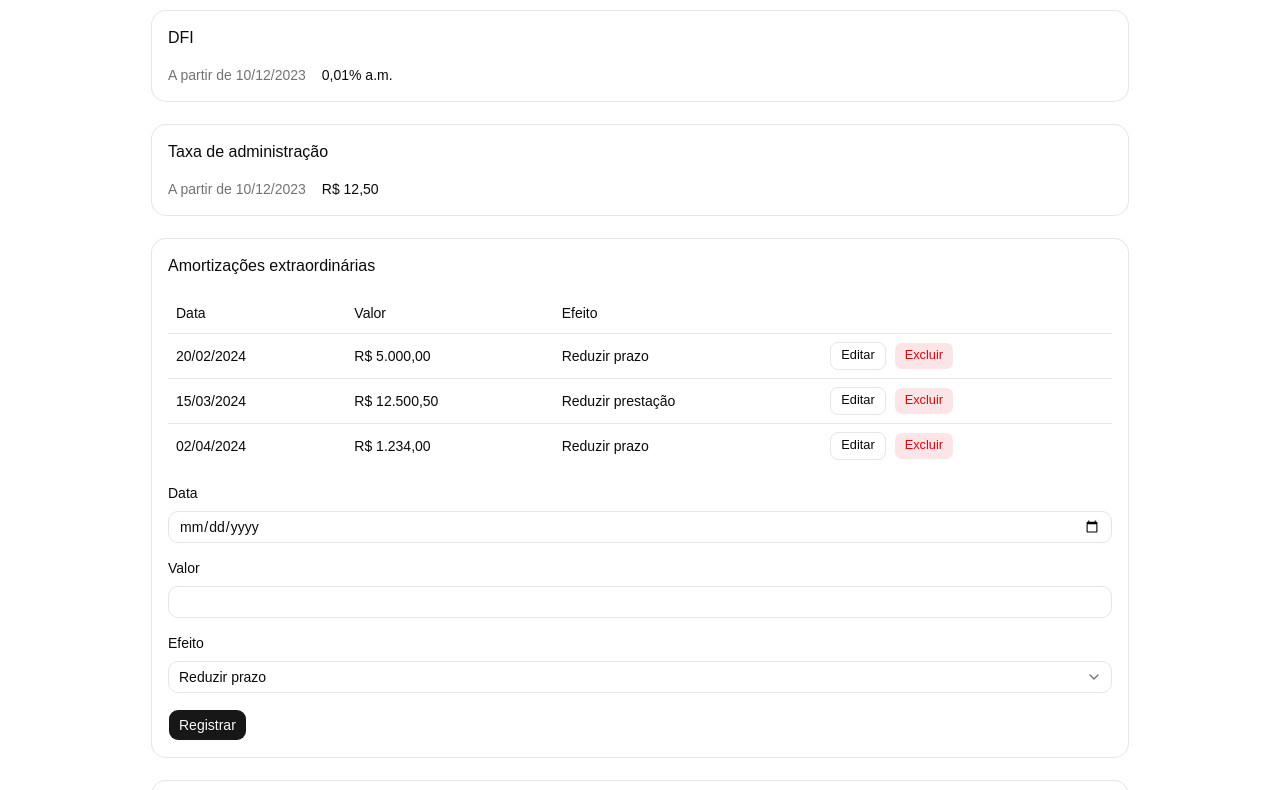
Test case: editing a prepayment › keeps the prepayment when the owner cancels
The image size is (1280, 790).
(page scrolled)
Step 1. Click the button with aria-label "Editar amortização de 15/03/2024" → (858, 400), box [830, 386, 886, 414]
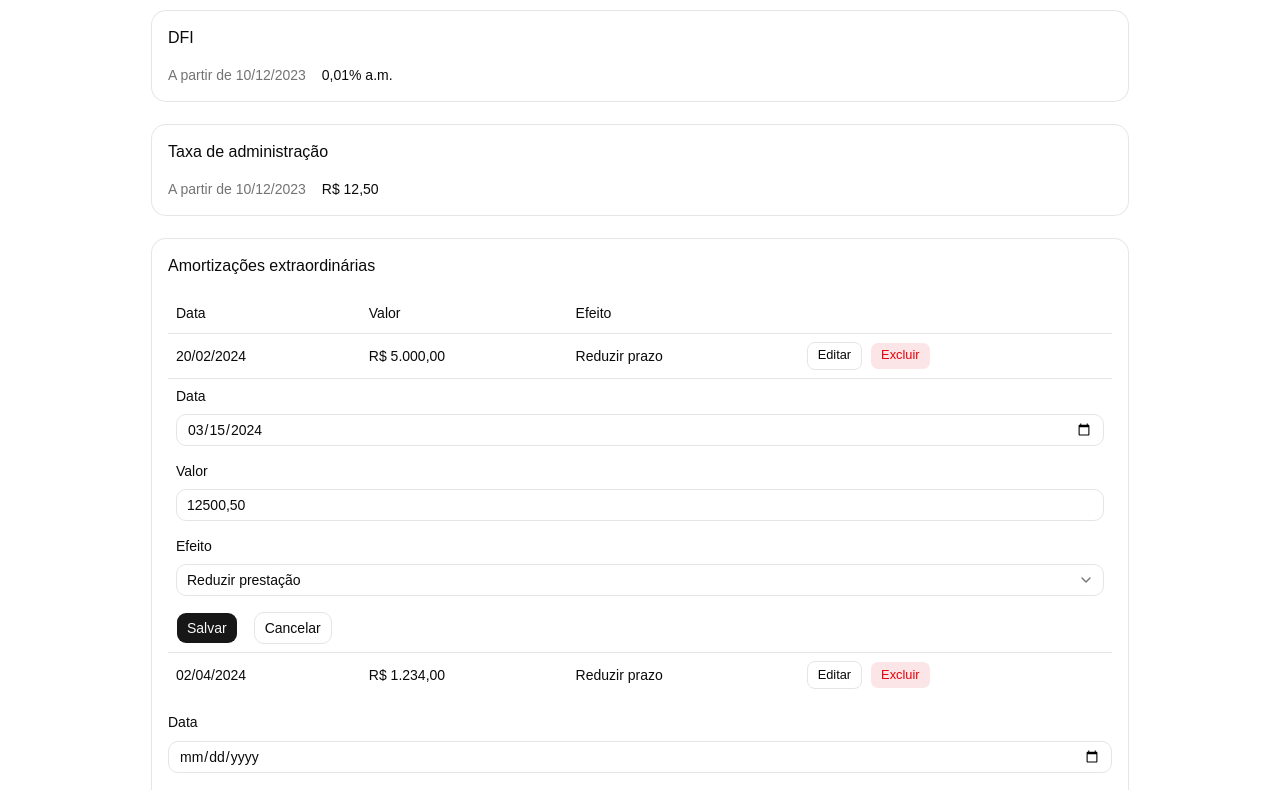
Step 2. Replace the text in the field labelled "Valor" with "1,00" → (640, 505), box [176, 489, 1104, 521]
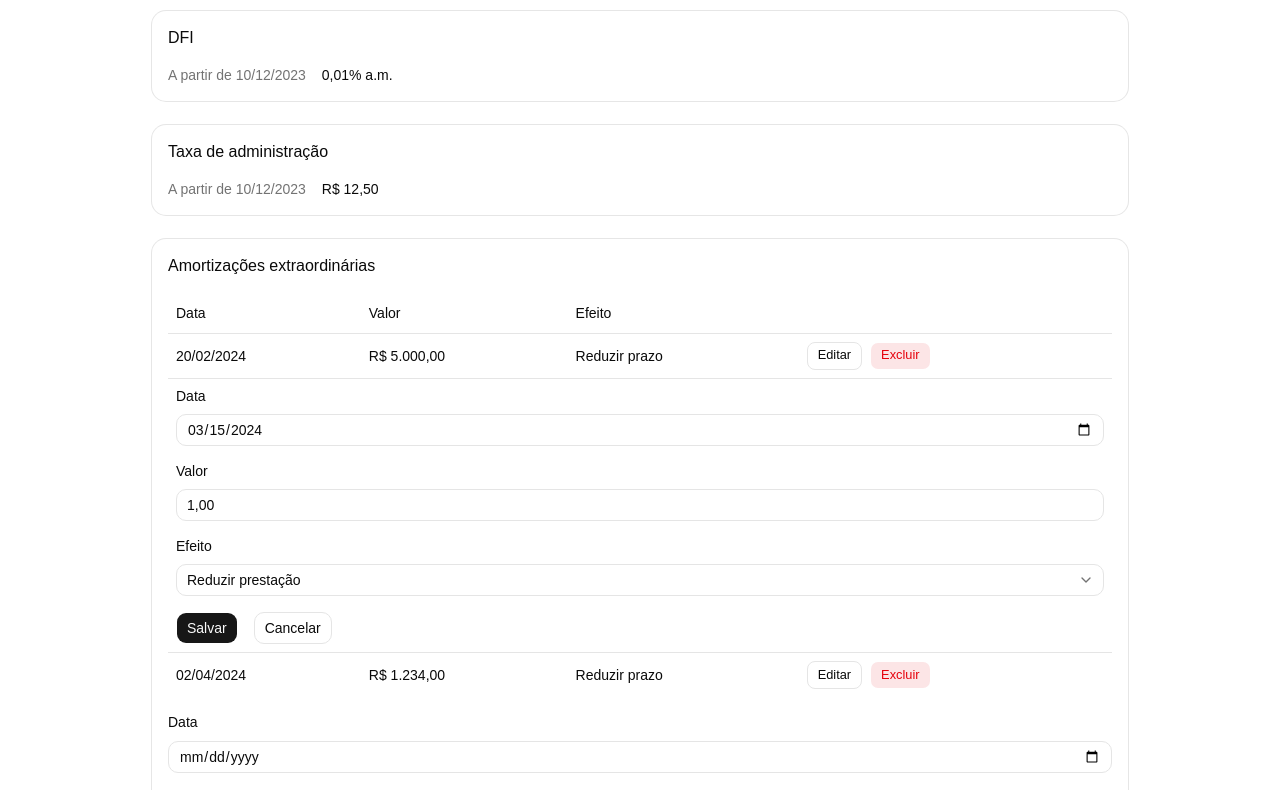
Step 3. Click the button "Cancelar" → (293, 628), box [254, 612, 332, 644]
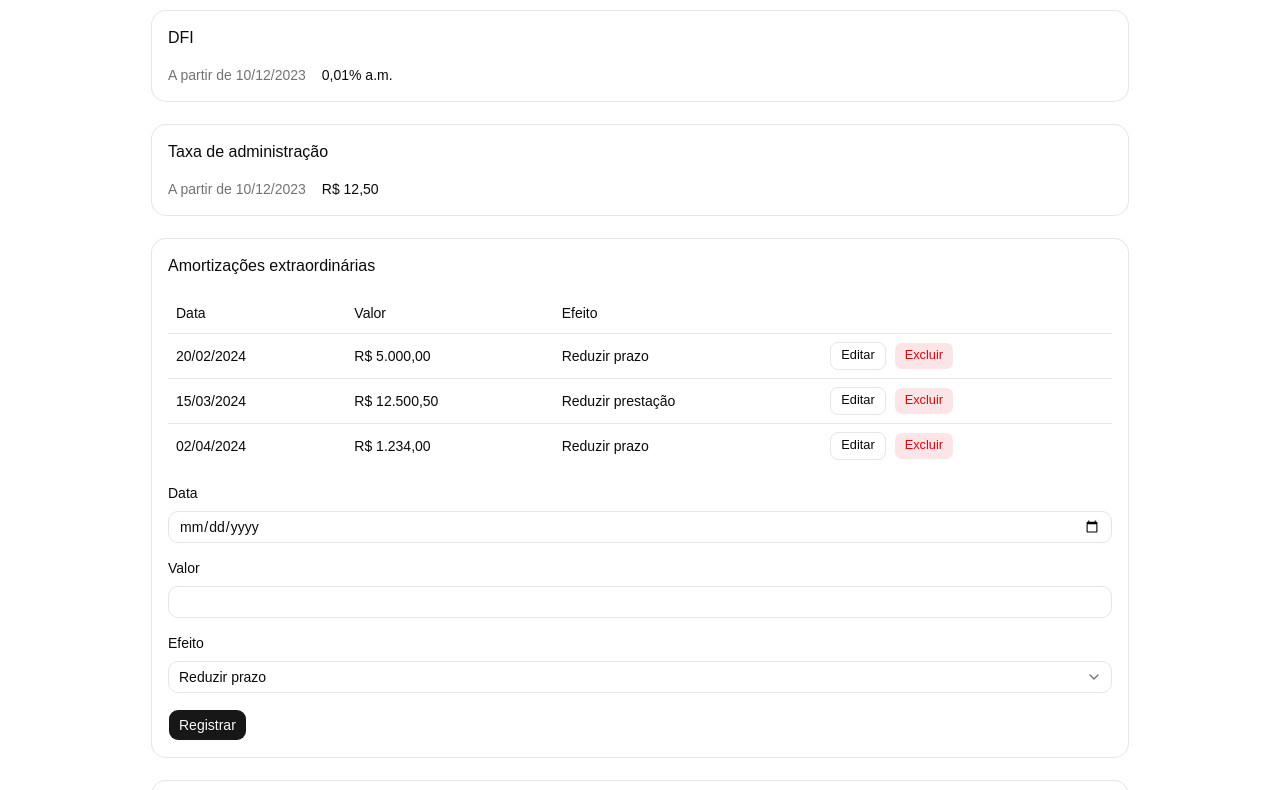
Expected: the text "R$ 12.500,50" is shown, [346, 378, 554, 423]
